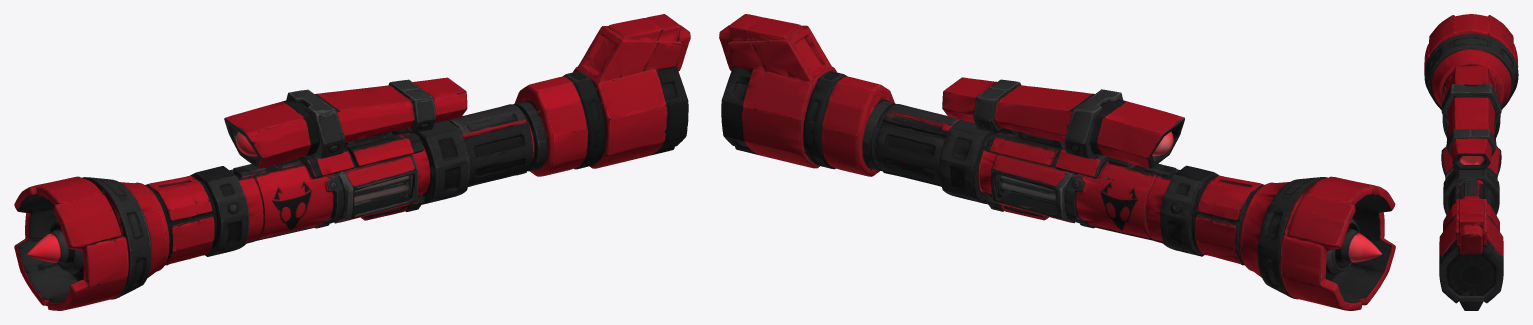
The model's file is rocket_launcher.glb.
3 views of the same model, side by side, from view 1: azimuth 30°, elevation 25°; view 2: azimuth 150°, elevation 25°; view 3: azimuth 270°, elevation 25° (orthographic). The views are drawn at different scales.
Parts seen in each view (by area): view 1: Launcher, Warhead; view 2: Launcher, Warhead; view 3: Launcher.
Boxes of the visible parts, x1,y1,x2,y2 form: Launcher: [14, 14, 690, 310]; Warhead: [27, 227, 73, 263]; Launcher: [719, 14, 1395, 310]; Warhead: [1335, 227, 1381, 262]; Launcher: [1424, 14, 1518, 310].
Bounding box in the file's own units: 1.9 × 0.3949 × 0.3245.
1 material, 1 textured.
